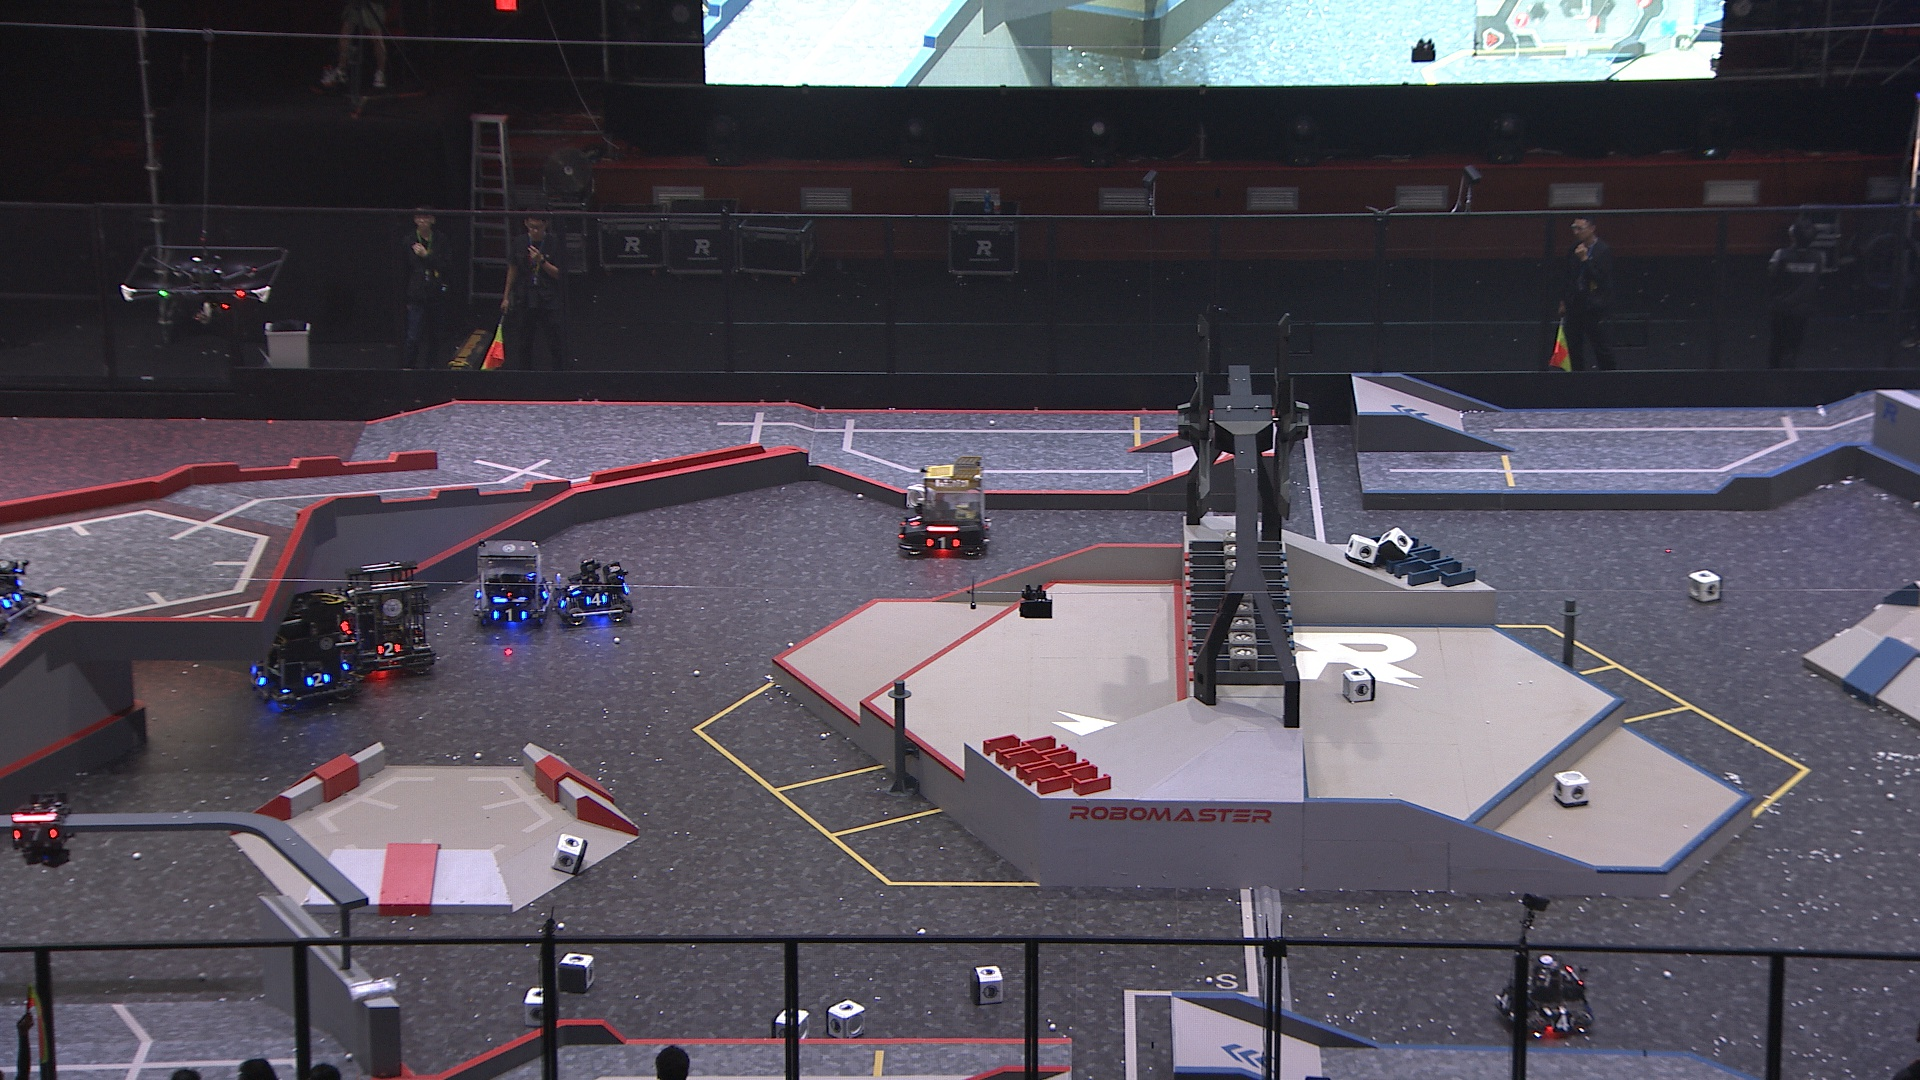armor: (11, 823, 58, 844), (1545, 1011, 1577, 1033), (491, 605, 529, 622), (922, 534, 963, 550), (301, 669, 332, 688), (0, 589, 26, 611), (583, 591, 612, 609), (373, 640, 404, 657), (533, 579, 553, 603), (902, 506, 923, 526), (248, 666, 266, 688), (567, 578, 584, 599), (1498, 992, 1513, 1011), (556, 588, 571, 608)
car: (235, 584, 359, 717), (340, 555, 442, 679), (897, 450, 994, 556), (1494, 953, 1600, 1039), (467, 537, 556, 632), (551, 560, 633, 632)
watcher: (5, 790, 79, 868)
